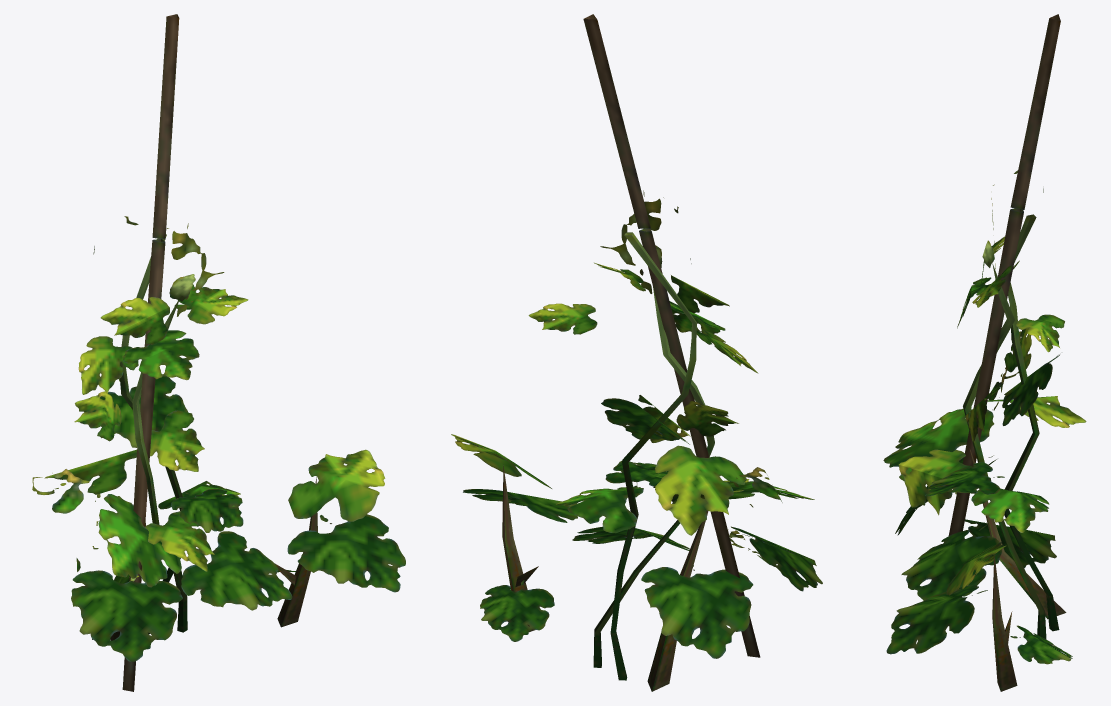
Rendered from 1004_cai_2.FBX.
3 renders of one model, left to right at view 1: azimuth 30°, elevation 25°; view 2: azimuth 150°, elevation 25°; view 3: azimuth 270°, elevation 25°, orthographic. The views are drawn at different scales.
Visible parts, largest first — view 1: 1004_cai_2; view 2: 1004_cai_2; view 3: 1004_cai_2.
Part boxes in pixels (<box>): 1004_cai_2: <box>32,14,405,691</box>; 1004_cai_2: <box>451,14,822,691</box>; 1004_cai_2: <box>883,14,1086,691</box>.
Size of the model in its own units: 159 by 250 by 83.73.
